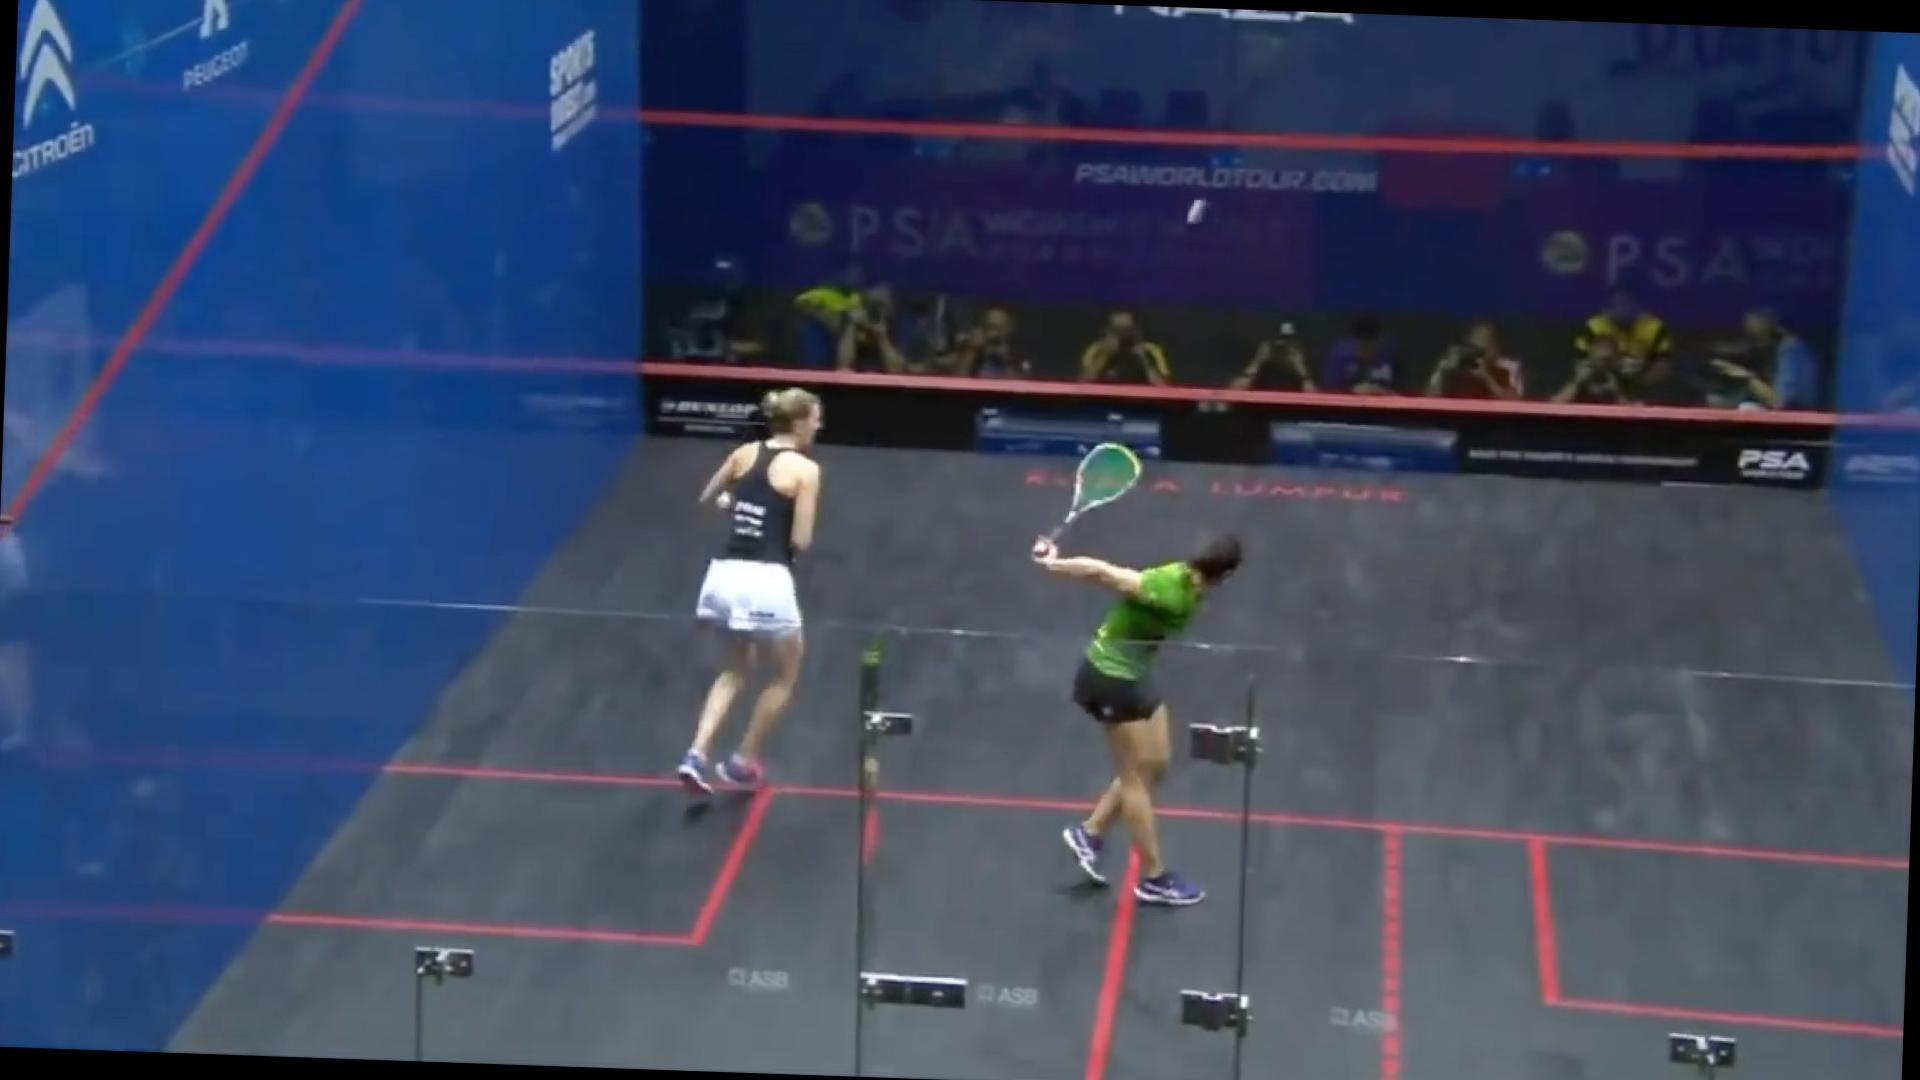Squash-Ball: (1170, 179, 1220, 246)
